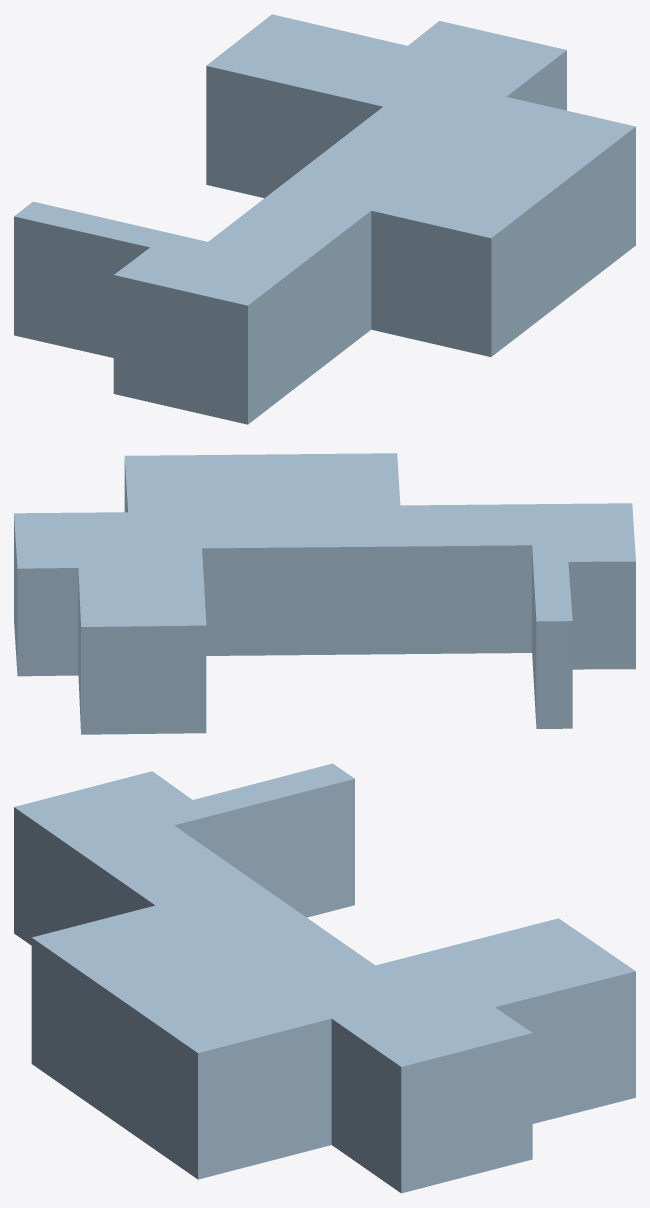
The model's file is osm_way_223944209.glb.
The picture shows the model from 3 angles, top to bottom: view 1: azimuth 30°, elevation 25°; view 2: azimuth 150°, elevation 25°; view 3: azimuth 270°, elevation 25°; orthographic projection. The views are drawn at different scales.
Visible parts, largest first — view 1: osm_way_223944209; view 2: osm_way_223944209; view 3: osm_way_223944209.
Part boxes in pixels (box(x1,y1,x2,y2)): osm_way_223944209: box(14, 14, 635, 424); osm_way_223944209: box(14, 453, 635, 734); osm_way_223944209: box(14, 763, 635, 1193).
Bounding box in the file's own units: 72.58 × 14.1 × 62.86.
